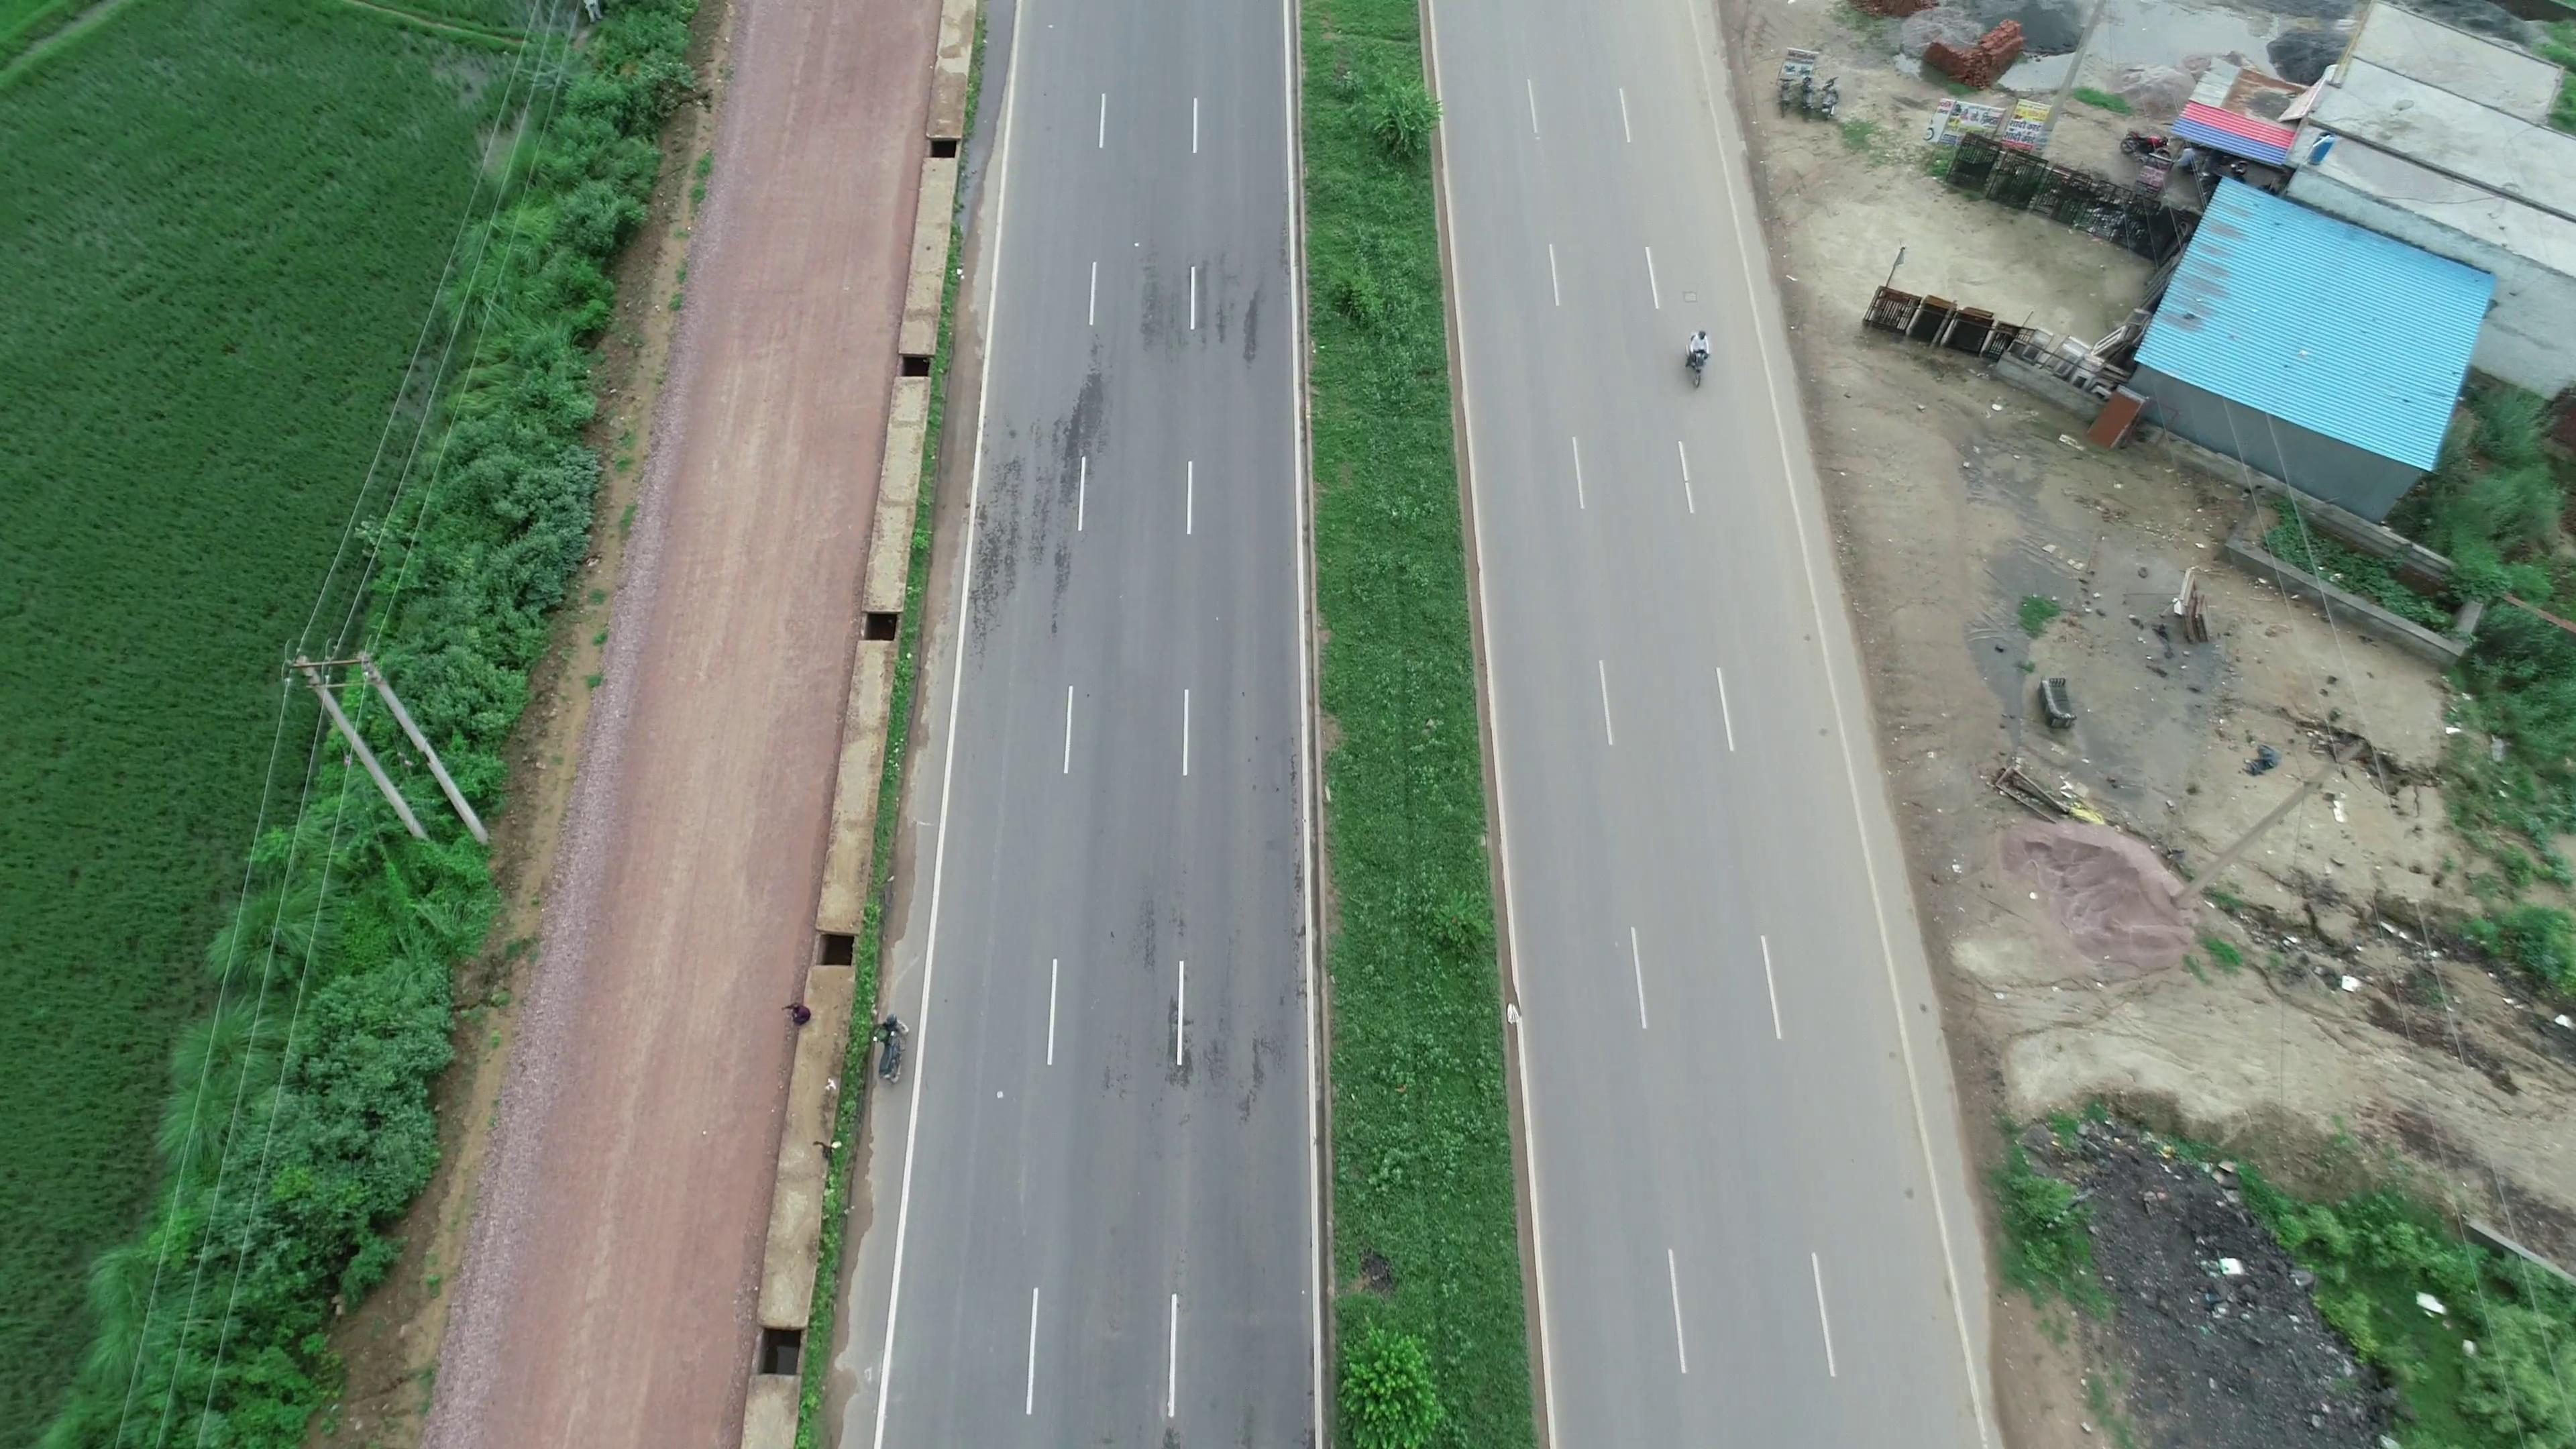Ravelling: (964, 380, 1104, 632), (1093, 915, 1276, 1100), (1125, 235, 1274, 373)
